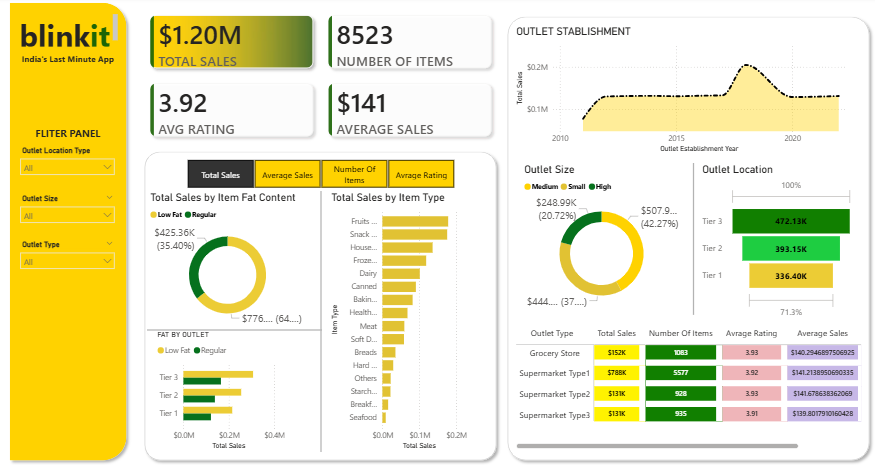

This screenshot's page, from the dashboard's own definition file:
{"tool":"powerbi","page":{"name":"Page 1","canvas":[1400,800],"ordinal":0},"visuals":[{"type":"shape","box":[6.4,0,204.8,750.4],"z":0},{"type":"textbox","box":[22.4,22.4,171.2,62.4],"z":1000},{"type":"textbox","box":[515.2,616,204.8,134.4],"z":2000},{"type":"textbox","box":[6.4,84.8,204.8,28.8],"z":3000},{"type":"cardVisual","fields":{"Data":["BlinkIT Grocery Data.Total Sales","BlinkIT Grocery Data.Number Of Items","BlinkIT Grocery Data.Avrage Rating","BlinkIT Grocery Data.Average Sales"]},"box":[211.2,0,604.8,252.8],"z":4000},{"type":"shape","box":[222.4,238.4,580.8,512],"z":5000},{"type":"donutChart","fields":{"Y":["BlinkIT Grocery Data.Total Sales"],"Category":["BlinkIT Grocery Data.Item Fat Content"]},"box":[235.2,310.4,257.6,222.4],"z":6000},{"type":"slicer","fields":{"Values":["metric.metric"]},"box":[273.6,252.8,478.4,57.6],"z":7000},{"type":"clusteredBarChart","title":"FAT BY OUTLET","fields":{"Y":["BlinkIT Grocery Data.Total Sales"],"Category":["BlinkIT Grocery Data.Outlet Location Type"],"Series":["BlinkIT Grocery Data.Item Fat Content"]},"box":[246.4,532.8,214.4,195.2],"z":8000},{"type":"shape","box":[235.2,462.4,280,140.8],"z":9000},{"type":"shape","box":[476.8,310.4,73.6,417.6],"z":10000},{"type":"barChart","fields":{"Y":["BlinkIT Grocery Data.Total Sales"],"Category":["BlinkIT Grocery Data.Item Type"]},"box":[524.8,310.4,227.2,417.6],"z":11000},{"type":"shape","box":[803.2,22.4,596.8,728],"z":12000},{"type":"lineChart","title":"OUTLET STABLISHMENT","fields":{"Y":["BlinkIT Grocery Data.Total Sales"],"Category":["BlinkIT Grocery Data.Outlet Establishment Year"]},"box":[820.8,44.8,539.2,208],"z":13000},{"type":"donutChart","title":"Outlet Size","fields":{"Y":["BlinkIT Grocery Data.Total Sales"],"Category":["BlinkIT Grocery Data.Outlet Size"]},"box":[833.6,265.6,257.6,243.2],"z":14000},{"type":"funnel","title":"Outlet Location","fields":{"Y":["Sum(BlinkIT Grocery Data.Sales)"],"Category":["BlinkIT Grocery Data.Outlet Location Type"]},"box":[1118.4,265.6,251.2,254.4],"z":15000},{"type":"shape","box":[974.4,265.6,270.4,243.2],"z":16000},{"type":"pivotTable","fields":{"Values":["BlinkIT Grocery Data.Total Sales","BlinkIT Grocery Data.Number Of Items","BlinkIT Grocery Data.Avrage Rating","BlinkIT Grocery Data.Average Sales","Sum(BlinkIT Grocery Data.Item Visibility)"],"Rows":["BlinkIT Grocery Data.Outlet Type"]},"box":[820.8,520,561.6,208],"z":17000},{"type":"slicer","fields":{"Values":["BlinkIT Grocery Data.Outlet Location Type"]},"box":[22.4,233.6,171.2,76.8],"z":17001},{"type":"slicer","fields":{"Values":["BlinkIT Grocery Data.Outlet Size"]},"box":[22.4,310.4,171.2,76.8],"z":17002},{"type":"slicer","fields":{"Values":["BlinkIT Grocery Data.Outlet Type"]},"box":[22.4,384,171.2,76.8],"z":17003},{"type":"textbox","box":[40,201.6,137.6,36.8],"z":17004}]}

Visuals, with their boxes on the page's 1400x800 design canvas (x1, y1, x2, y2). These are canvas units, not pixel positions in the 875x465 screenshot, which may show the page scaled, cropped or inside an application window:
shape: <box>6,0,211,750</box>
textbox: <box>22,22,194,85</box>
textbox: <box>515,616,720,750</box>
textbox: <box>6,85,211,114</box>
cardVisual - BlinkIT Grocery Data.Total Sales x BlinkIT Grocery Data.Number Of Items: <box>211,0,816,253</box>
shape: <box>222,238,803,750</box>
donutChart - BlinkIT Grocery Data.Total Sales x BlinkIT Grocery Data.Item Fat Content: <box>235,310,493,533</box>
slicer - metric.metric: <box>274,253,752,310</box>
"FAT BY OUTLET" clusteredBarChart: <box>246,533,461,728</box>
shape: <box>235,462,515,603</box>
shape: <box>477,310,550,728</box>
barChart - BlinkIT Grocery Data.Total Sales x BlinkIT Grocery Data.Item Type: <box>525,310,752,728</box>
shape: <box>803,22,1400,750</box>
"OUTLET STABLISHMENT" lineChart: <box>821,45,1360,253</box>
"Outlet Size" donutChart: <box>834,266,1091,509</box>
"Outlet Location" funnel: <box>1118,266,1370,520</box>
shape: <box>974,266,1245,509</box>
pivotTable - BlinkIT Grocery Data.Total Sales x BlinkIT Grocery Data.Number Of Items: <box>821,520,1382,728</box>
slicer - BlinkIT Grocery Data.Outlet Location Type: <box>22,234,194,310</box>
slicer - BlinkIT Grocery Data.Outlet Size: <box>22,310,194,387</box>
slicer - BlinkIT Grocery Data.Outlet Type: <box>22,384,194,461</box>
textbox: <box>40,202,178,238</box>
